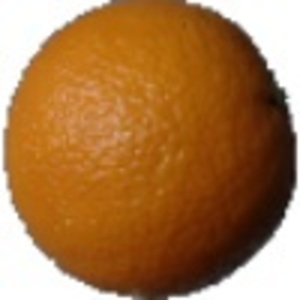laranja: (7, 3, 297, 294)
